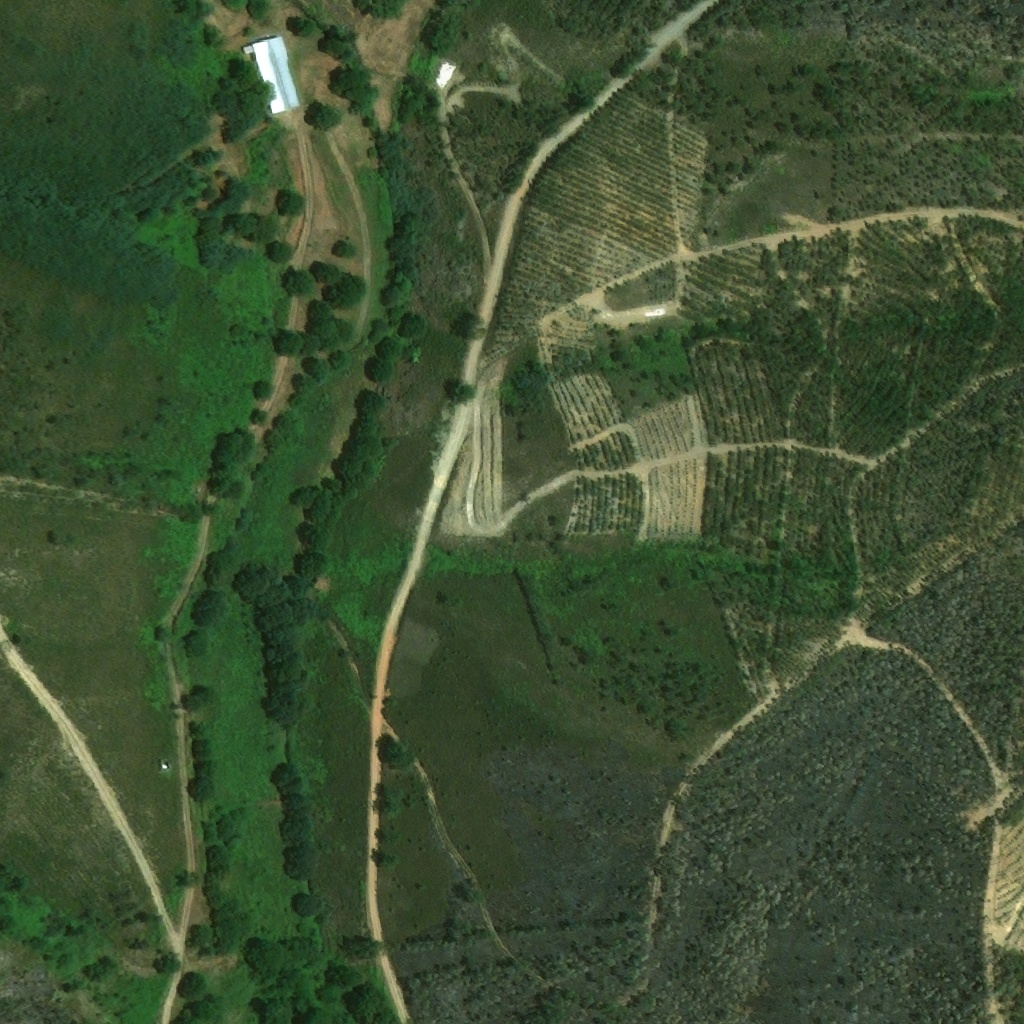0 no-damage: (240, 35, 300, 115), (156, 758, 169, 770)
